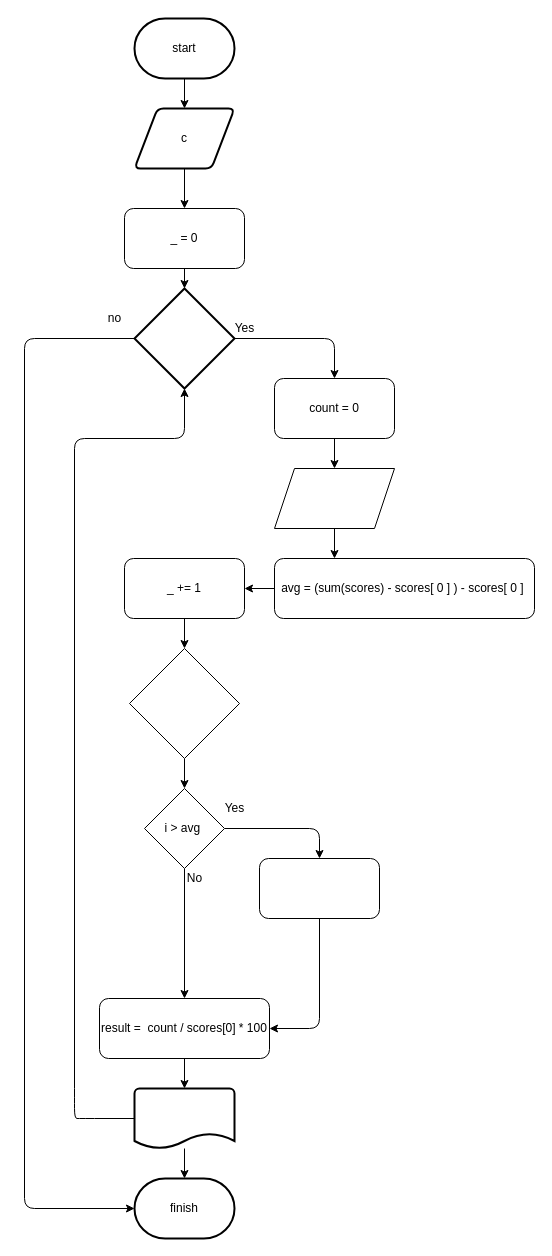
Image size: 552x1256. Some labels were removed from this diagram. The shapes that lost their labels are listed below. From the top down, each one's centre as x and y in pixels, then its label:
pixel 184 338: _ < c
pixel 334 498: scores = list[ ]
pixel 184 703: i in scores[ 1: ]
pixel 319 888: count += 1
pixel 184 1118: f"{result:3f}%"
